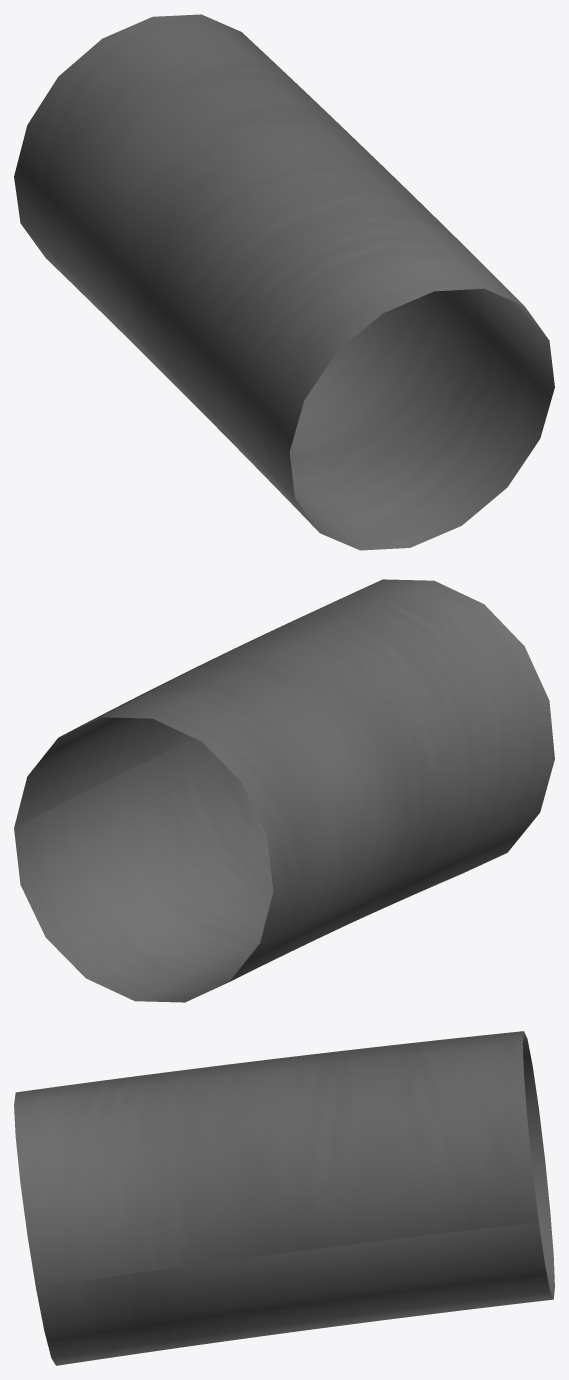
The model's file is mastarmcurve_10x2_c8.obj.
3 renders of one model, top to bottom at view 1: azimuth 30°, elevation 25°; view 2: azimuth 150°, elevation 25°; view 3: azimuth 270°, elevation 25°, orthographic. The views are drawn at different scales.
Parts seen in each view (by area): view 1: mastarm_10x2_c8; view 2: mastarm_10x2_c8; view 3: mastarm_10x2_c8.
Boxes of the visible parts, x1=… form: mastarm_10x2_c8: x1=14, y1=14, x2=554, y2=550; mastarm_10x2_c8: x1=14, y1=579, x2=554, y2=1002; mastarm_10x2_c8: x1=14, y1=1031, x2=554, y2=1365.
Bounding box in the file's own units: 0.55 × 0.6784 × 1.08.
